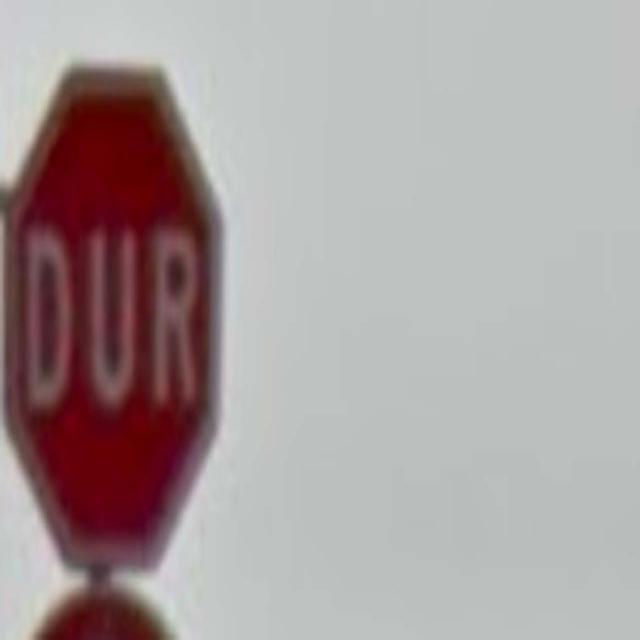dur: (7, 69, 215, 575)
